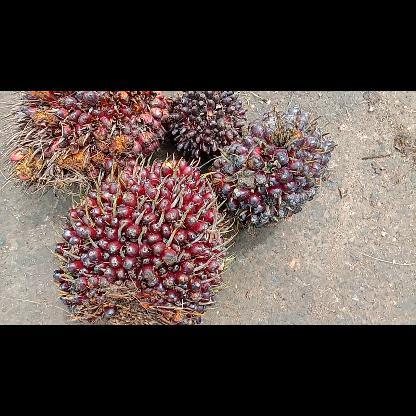Kurang masak: (52, 156, 233, 324), (208, 107, 340, 229)
TBS abnormal: (169, 92, 249, 160)
TBS masak: (10, 92, 168, 184)
